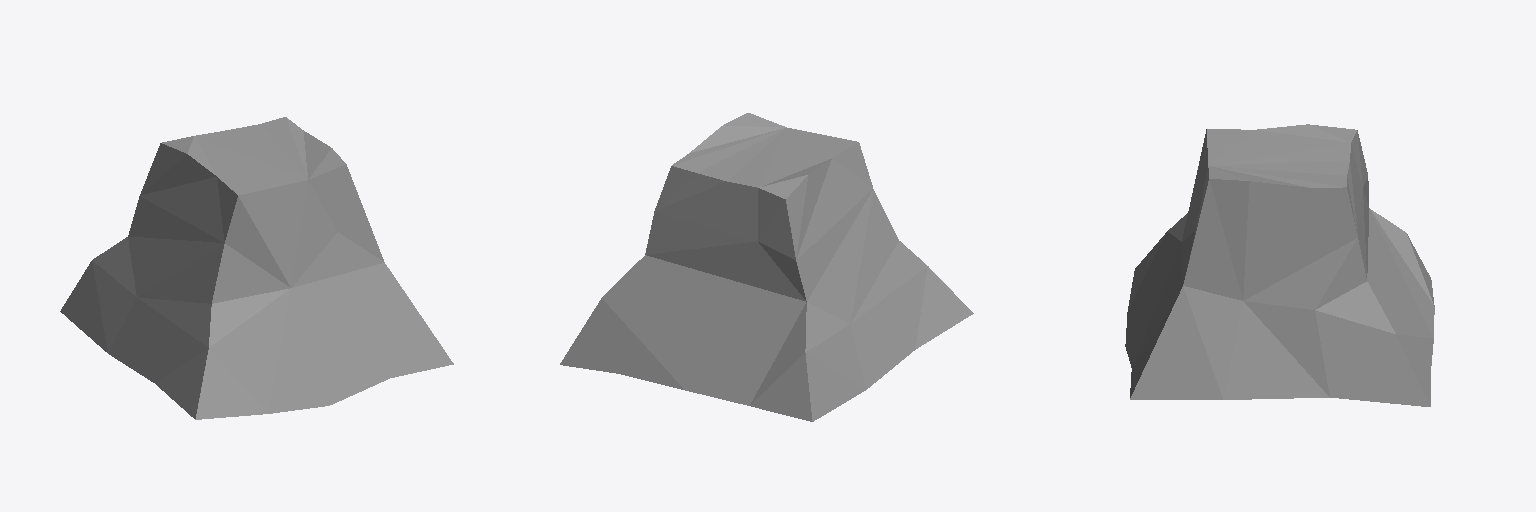
The model's file is Low_Poly_Cuboid_Rock_012.obj.
3 renders of one model, left to right at view 1: azimuth 30°, elevation 25°; view 2: azimuth 150°, elevation 25°; view 3: azimuth 270°, elevation 25°, orthographic.
Parts seen in each view (by area): view 1: Low_Poly_Cuboid_Rock_012_Cube.001; view 2: Low_Poly_Cuboid_Rock_012_Cube.001; view 3: Low_Poly_Cuboid_Rock_012_Cube.001.
Part boxes in pixels (left/top/right/bottom): Low_Poly_Cuboid_Rock_012_Cube.001: left=60, top=117, right=453, bottom=419; Low_Poly_Cuboid_Rock_012_Cube.001: left=560, top=113, right=973, bottom=421; Low_Poly_Cuboid_Rock_012_Cube.001: left=1125, top=124, right=1434, bottom=406.
Size of the model in its own units: 7.73 by 5.82 by 7.77.